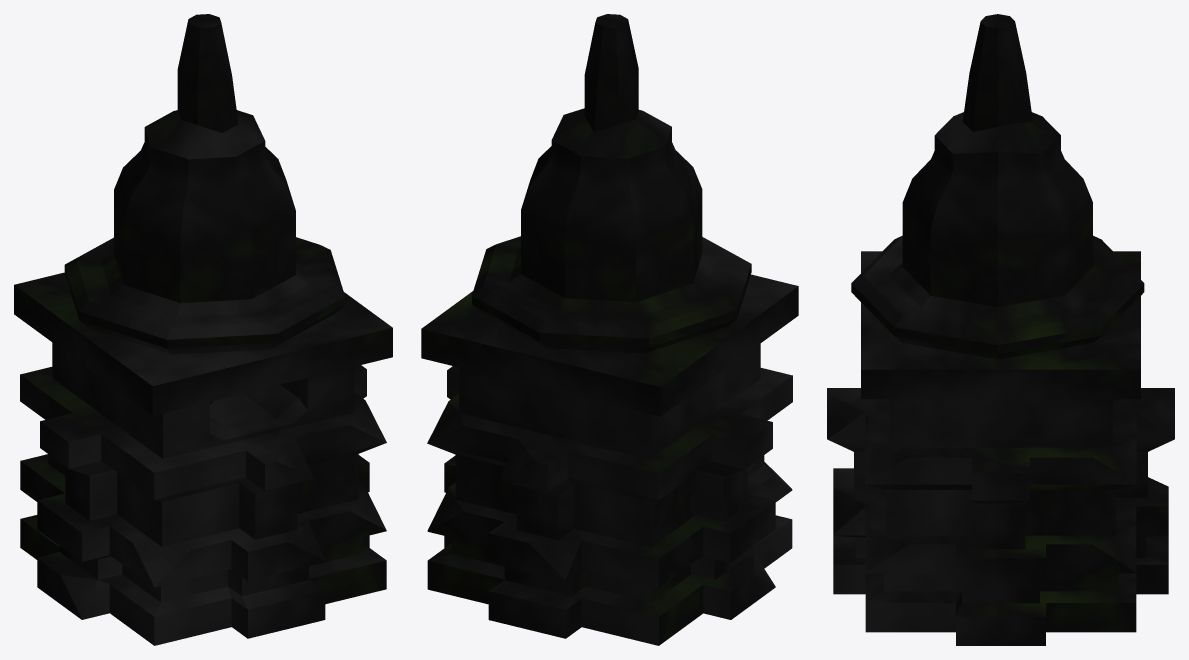
The model's file is stupa kecil .fbx.
3 renders of one model, left to right at view 1: azimuth 30°, elevation 25°; view 2: azimuth 150°, elevation 25°; view 3: azimuth 270°, elevation 25°, orthographic.
Parts seen in each view (by area): view 1: Stupa kecil; view 2: Stupa kecil; view 3: Stupa kecil.
Part boxes in pixels (x1,y1,x2,y2): Stupa kecil: (14, 14, 392, 645); Stupa kecil: (421, 14, 798, 645); Stupa kecil: (827, 14, 1174, 645).
Size of the model in its own units: 718 by 1261 by 718.
